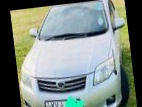car: (12, 0, 135, 107)
